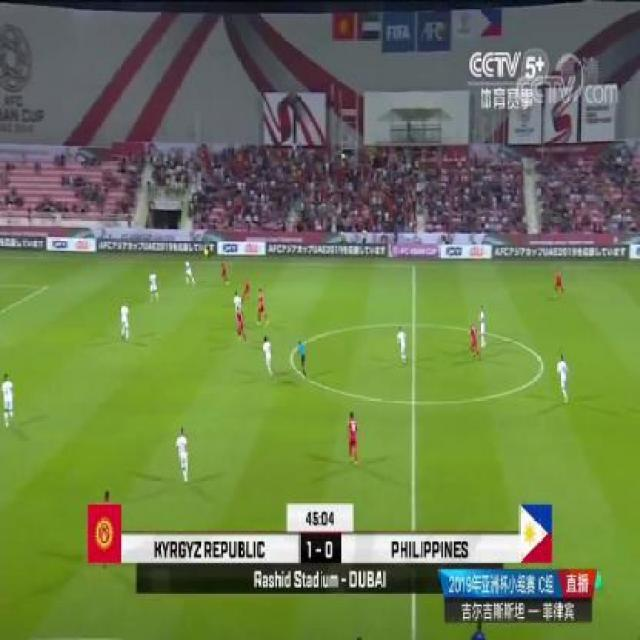player: (173, 424, 198, 481), (0, 369, 17, 430), (555, 352, 573, 407), (345, 410, 361, 469), (460, 318, 480, 364), (260, 335, 279, 381), (255, 286, 273, 327), (476, 297, 490, 349), (215, 253, 233, 292), (118, 299, 134, 341), (179, 257, 200, 289), (394, 326, 411, 365), (146, 267, 162, 306), (236, 308, 249, 346), (226, 286, 243, 311), (241, 274, 251, 304), (555, 268, 565, 297)
referee: (293, 340, 311, 380)
